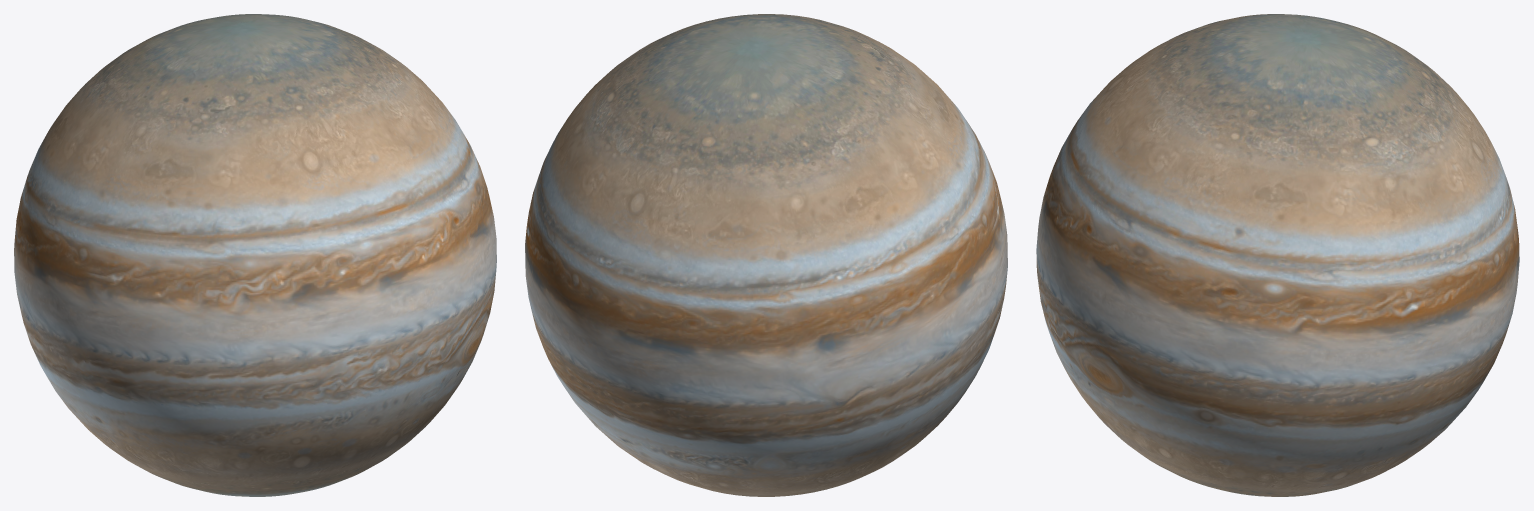
Rendered from jupiter.glb.
3 renders of one model, left to right at view 1: azimuth 30°, elevation 25°; view 2: azimuth 150°, elevation 25°; view 3: azimuth 270°, elevation 25°, orthographic.
Visible parts, largest first — view 1: jupiter; view 2: jupiter; view 3: jupiter.
Boxes of the visible parts, box(x1,y1,x2,y2) form: jupiter: box(14, 14, 496, 496); jupiter: box(525, 14, 1007, 496); jupiter: box(1036, 14, 1519, 496).
Bounding box in the file's own units: 5.45 × 5.45 × 5.45.
1 material, 1 textured.
